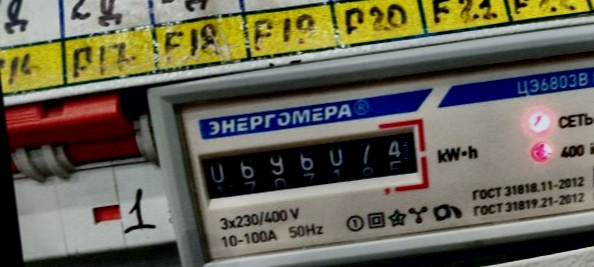0: (204, 157, 226, 183), (325, 140, 344, 167)
4: (382, 133, 401, 157)
5: (386, 157, 404, 174)
6: (296, 143, 316, 171), (236, 153, 256, 179)
7: (355, 137, 375, 164)
9: (265, 148, 285, 176)
screen: (186, 112, 432, 210)
